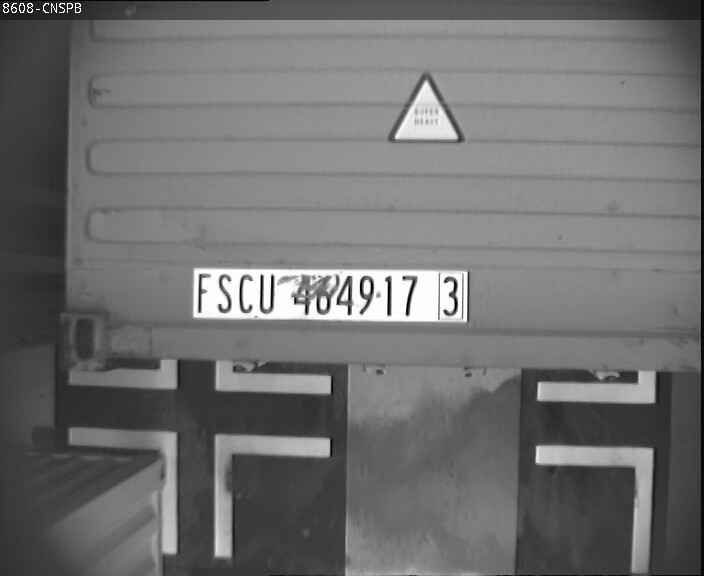groundmarker_1: (66, 426, 329, 557)
